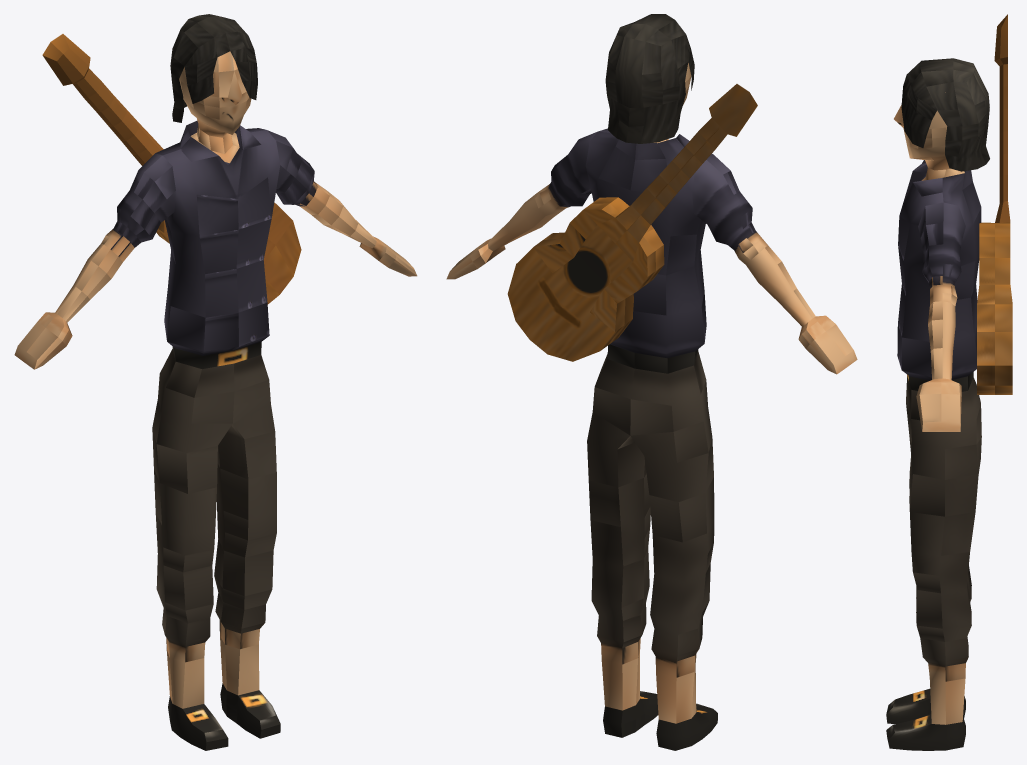
Rendered from Bard.FBX.
3 renders of one model, left to right at view 1: azimuth 30°, elevation 25°; view 2: azimuth 150°, elevation 25°; view 3: azimuth 270°, elevation 25°, orthographic. The views are drawn at different scales.
Parts seen in each view (by area): view 1: Bard_Model, Bard_Guitar; view 2: Bard_Model, Bard_Guitar; view 3: Bard_Model, Bard_Guitar.
Boxes of the visible parts, x1,y1,x2,y2 form: Bard_Model: (14, 14, 417, 750); Bard_Guitar: (42, 34, 301, 304); Bard_Model: (446, 14, 857, 750); Bard_Guitar: (507, 84, 757, 361); Bard_Model: (886, 58, 989, 750); Bard_Guitar: (977, 14, 1012, 394).
Size of the model in its own units: 75.58 by 132 by 22.61.
